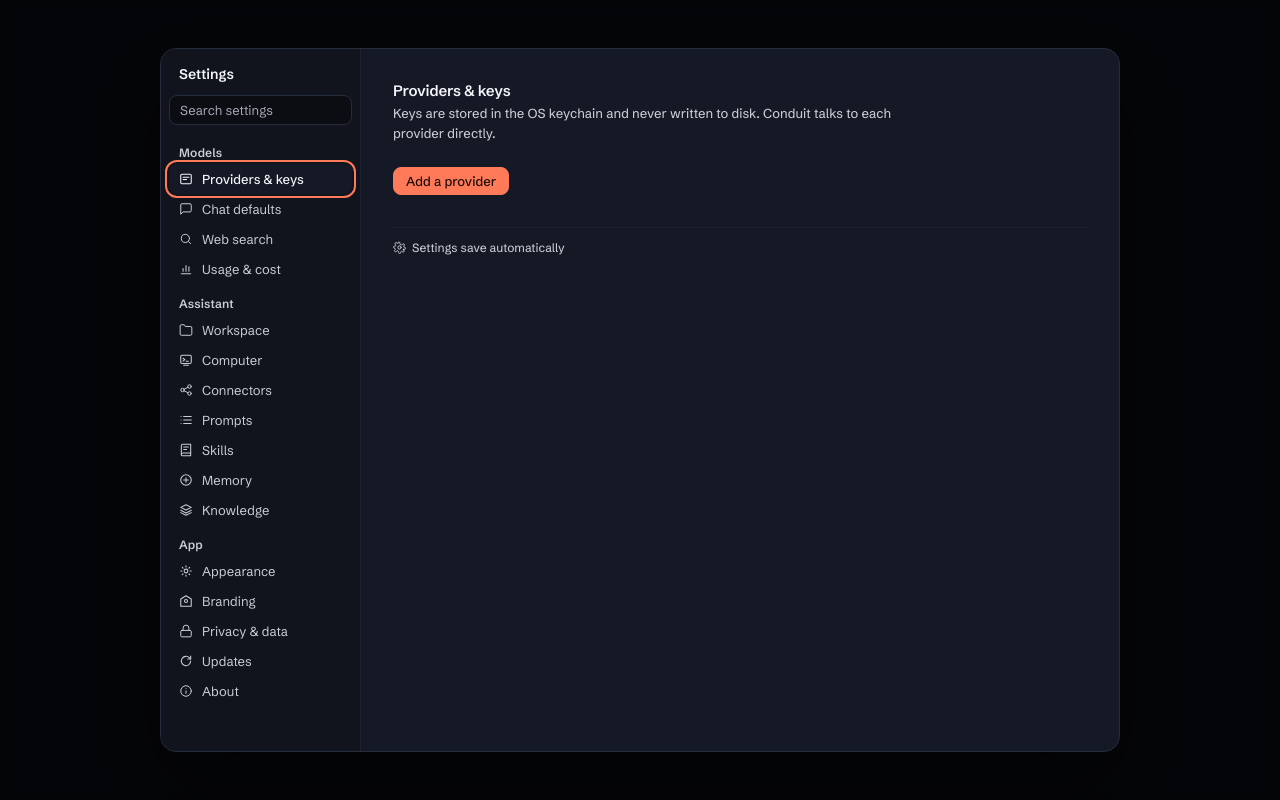
Test: SettingsSheet › search › says so when nothing matches
This screenshot has width=1280, height=800.
Type "zzqx" into the search field labelled "Search settings" at point(260, 110), box [169, 95, 352, 125]
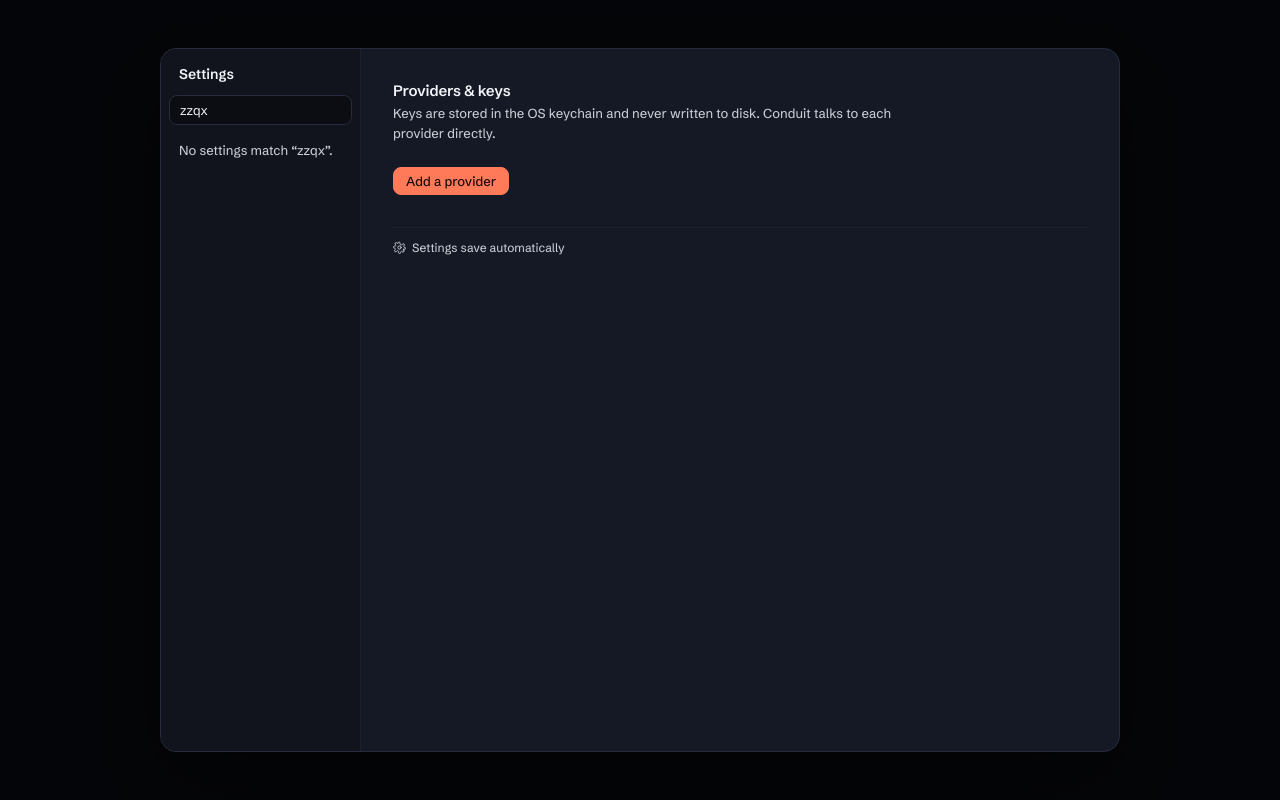
Now the message reads "No settings match “zzqx”.", box [179, 142, 333, 158]
